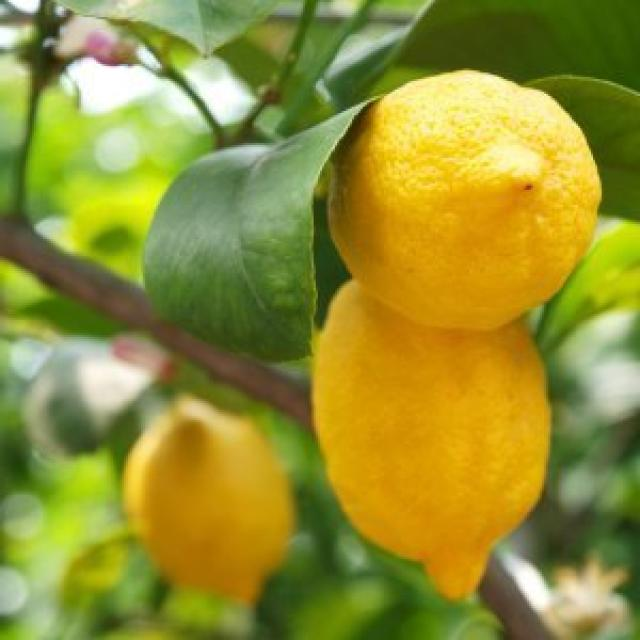lemon: (271, 224, 580, 640), (265, 50, 636, 370), (96, 357, 311, 608)
